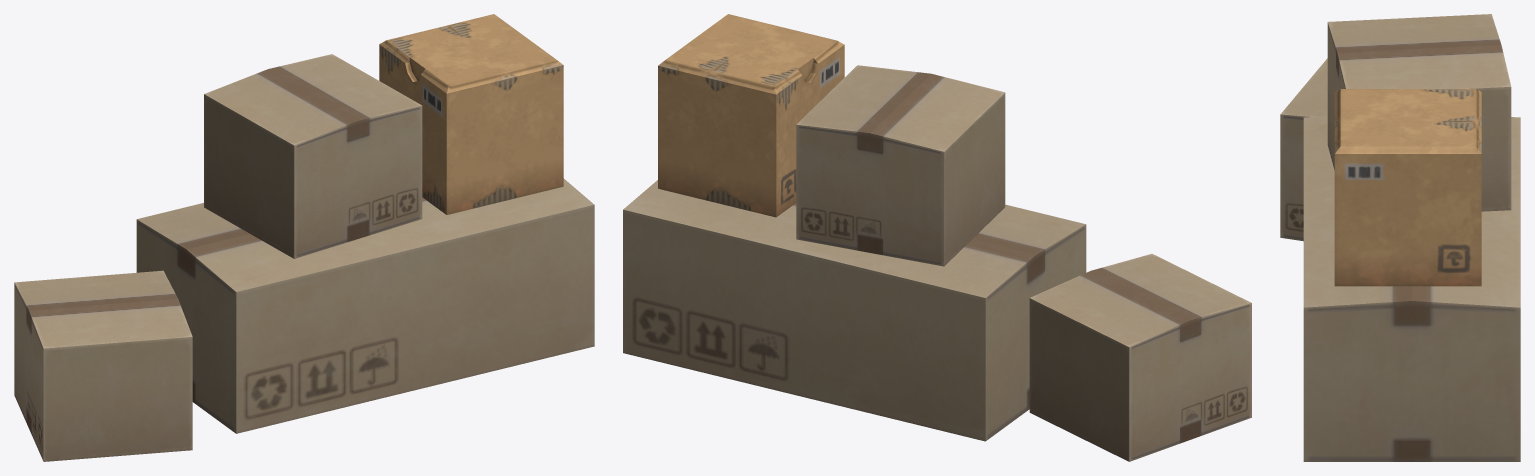
File: WarehouseManager_16.obj
The picture shows the model from 3 angles, left to right: view 1: azimuth 30°, elevation 25°; view 2: azimuth 150°, elevation 25°; view 3: azimuth 270°, elevation 25°; orthographic projection. The views are drawn at different scales.
Size of the model in its own units: 2.75 by 1.37 by 0.9807.
Materials: 4 (4 with a texture image).
